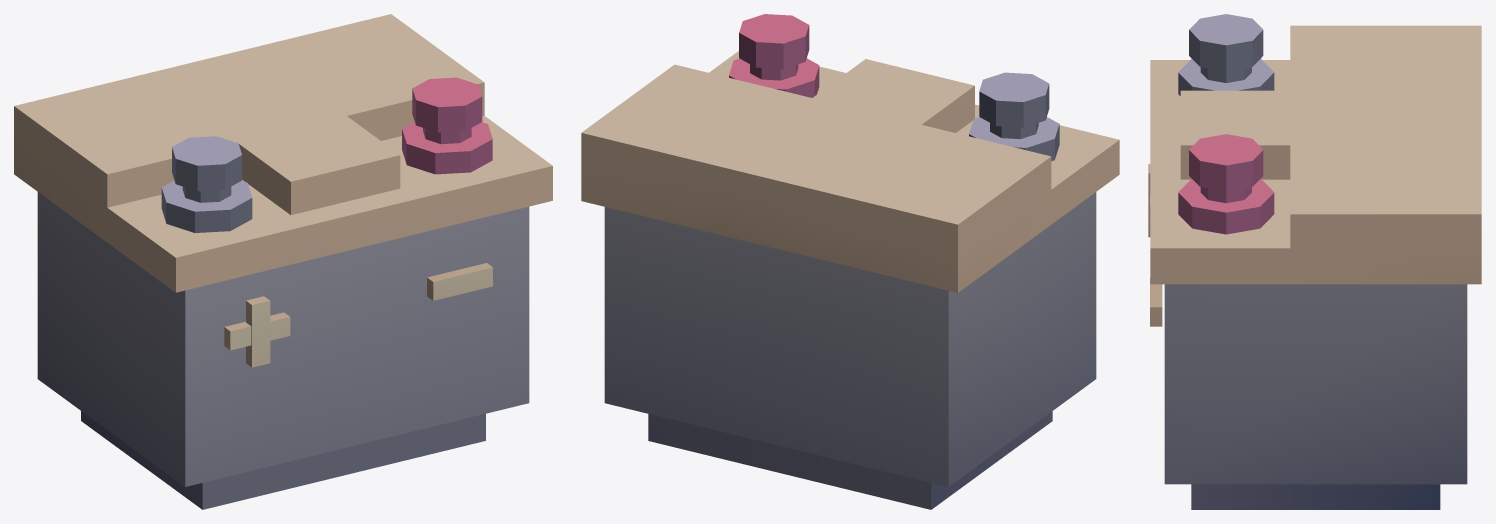
Rendered from colect_battery.glb.
3 renders of one model, left to right at view 1: azimuth 30°, elevation 25°; view 2: azimuth 150°, elevation 25°; view 3: azimuth 270°, elevation 25°, orthographic. The views are drawn at different scales.
Visible parts, largest first — view 1: colect_battery; view 2: colect_battery; view 3: colect_battery.
Boxes of the visible parts, x1,y1,x2,y2 form: colect_battery: (14,14,552,509); colect_battery: (581,14,1119,509); colect_battery: (1148,14,1481,509).
Bounding box in the file's own units: 0.3353 × 0.2899 × 0.2505.
